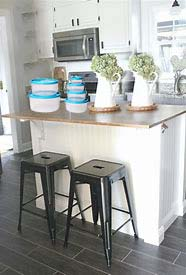copymove: (125, 45, 159, 112)
removal: (14, 1, 43, 41)
spliced: (27, 60, 90, 113)
